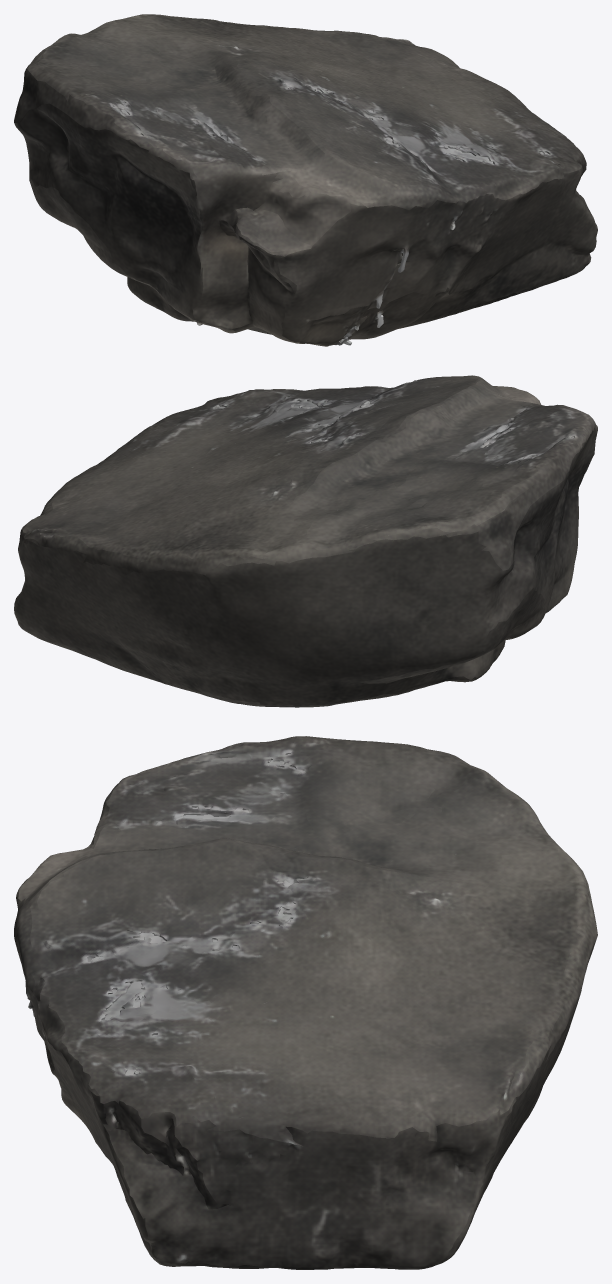
The picture shows the model from 3 angles, top to bottom: view 1: azimuth 30°, elevation 25°; view 2: azimuth 150°, elevation 25°; view 3: azimuth 270°, elevation 25°; orthographic projection. The views are drawn at different scales.
Visible parts, largest first — view 1: world; view 2: world; view 3: world.
Boxes of the visible parts, left/top/right/bottom form: world: left=14, top=14, right=597, bottom=346; world: left=14, top=375, right=597, bottom=707; world: left=14, top=736, right=597, bottom=1269.
Bounding box in the file's own units: 0.45 × 0.217 × 0.4102.
1 material, 1 textured.
